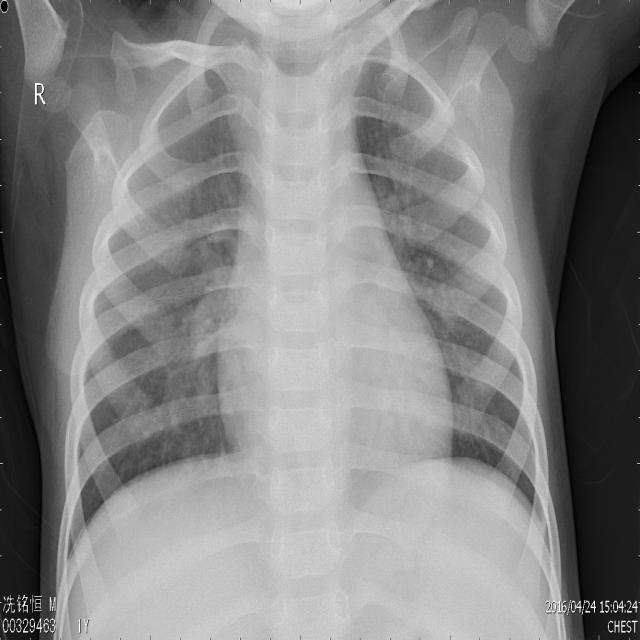no-pneumonia: (357, 55, 557, 557), (61, 62, 260, 558)
